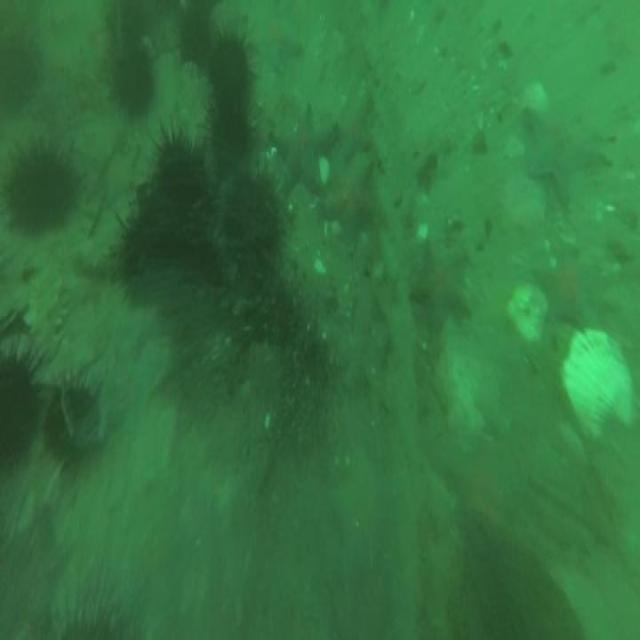echinus: (113, 208, 180, 310), (8, 147, 76, 235), (221, 172, 279, 258), (1, 359, 35, 471), (45, 387, 82, 458), (113, 52, 154, 116), (157, 137, 195, 205), (209, 102, 251, 160), (212, 32, 247, 100), (177, 6, 211, 64), (111, 0, 144, 57)
holothurian: (26, 278, 68, 357)
scallop: (564, 327, 639, 443), (312, 258, 327, 276), (416, 221, 429, 239)
starfish: (523, 106, 609, 199), (444, 441, 522, 534), (531, 248, 608, 329), (406, 243, 473, 332), (271, 103, 335, 196), (321, 160, 378, 242), (254, 19, 302, 76), (132, 335, 170, 405), (335, 89, 373, 158), (103, 148, 138, 204)
